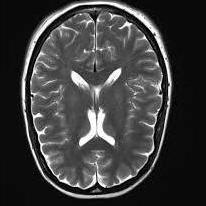Normal_Brain: (1, 1, 206, 206)
